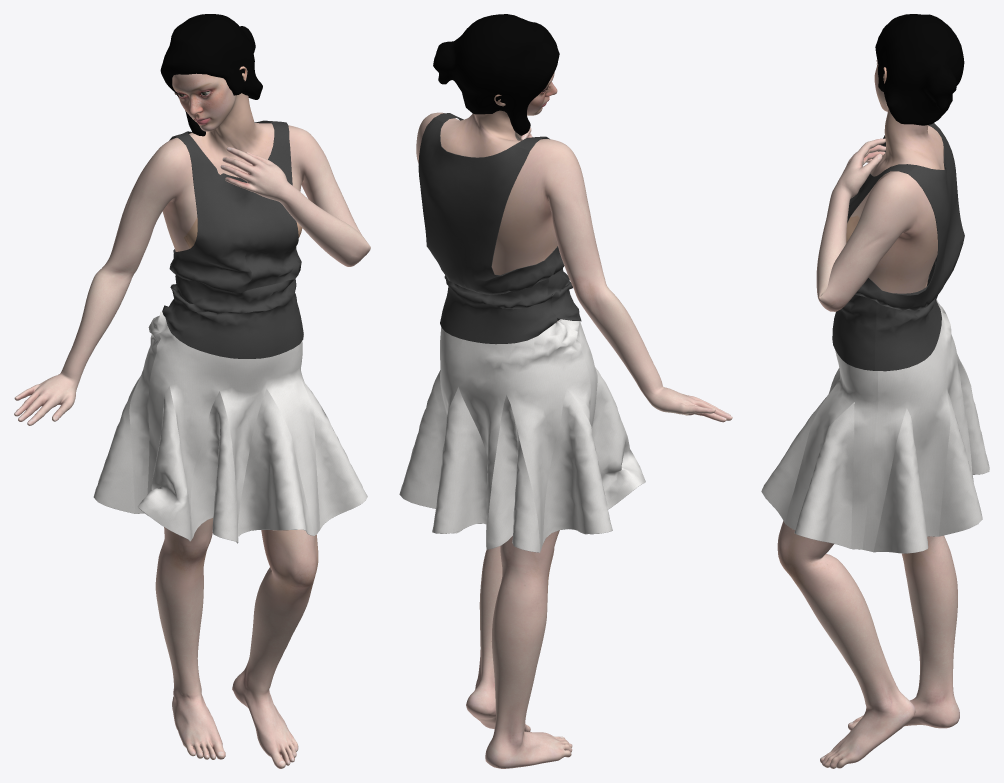
File: Custom_View_5__Dramatic.obj
3 renders of one model, left to right at view 1: azimuth 30°, elevation 25°; view 2: azimuth 150°, elevation 25°; view 3: azimuth 270°, elevation 25°, orthographic. The views are drawn at different scales.
Bounding box in the file's own units: 813 × 1767 × 499.
